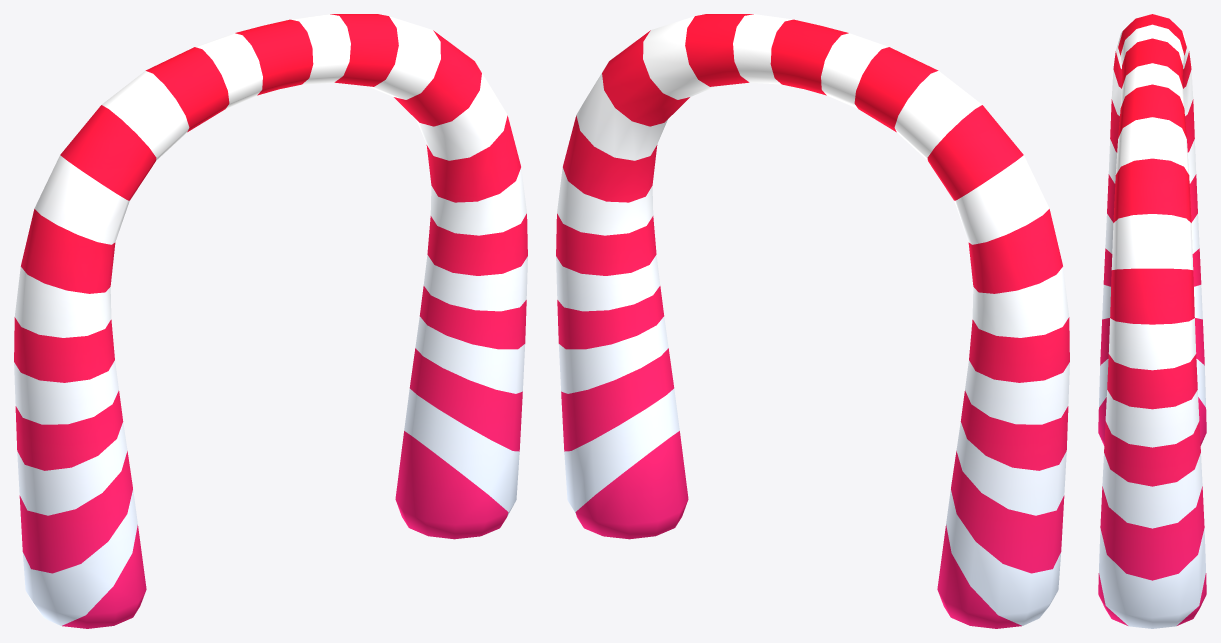
Rendered from Gate_01.glb.
3 renders of one model, left to right at view 1: azimuth 30°, elevation 25°; view 2: azimuth 150°, elevation 25°; view 3: azimuth 270°, elevation 25°, orthographic. The views are drawn at different scales.
Parts seen in each view (by area): view 1: Gate_01; view 2: Gate_01; view 3: Gate_01.
Boxes of the visible parts, x1,y1,x2,y2 form: Gate_01: [14, 14, 527, 628]; Gate_01: [556, 14, 1069, 628]; Gate_01: [1098, 14, 1206, 628].
Bounding box in the file's own units: 4.17 × 4.32 × 0.8754.
Materials: 1 (1 with a texture image).
